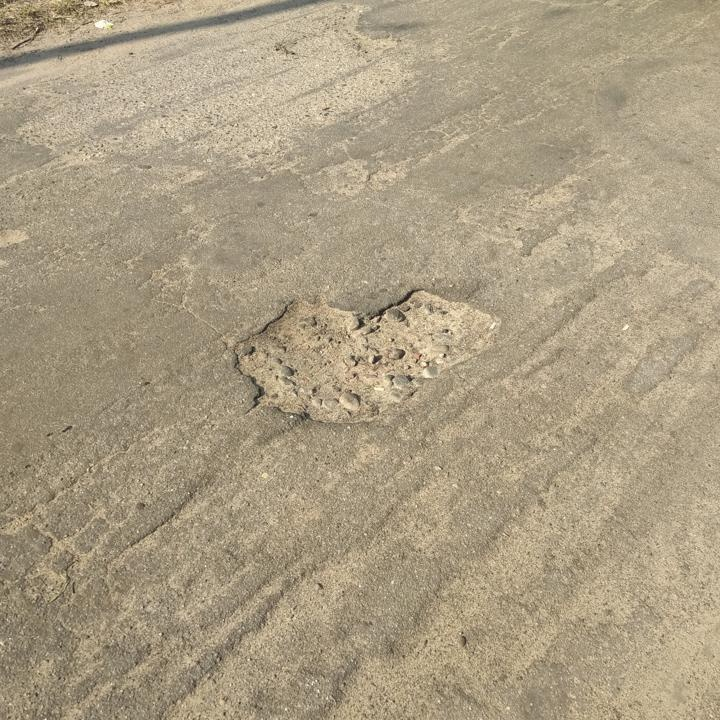pothole: (231, 284, 501, 423)
